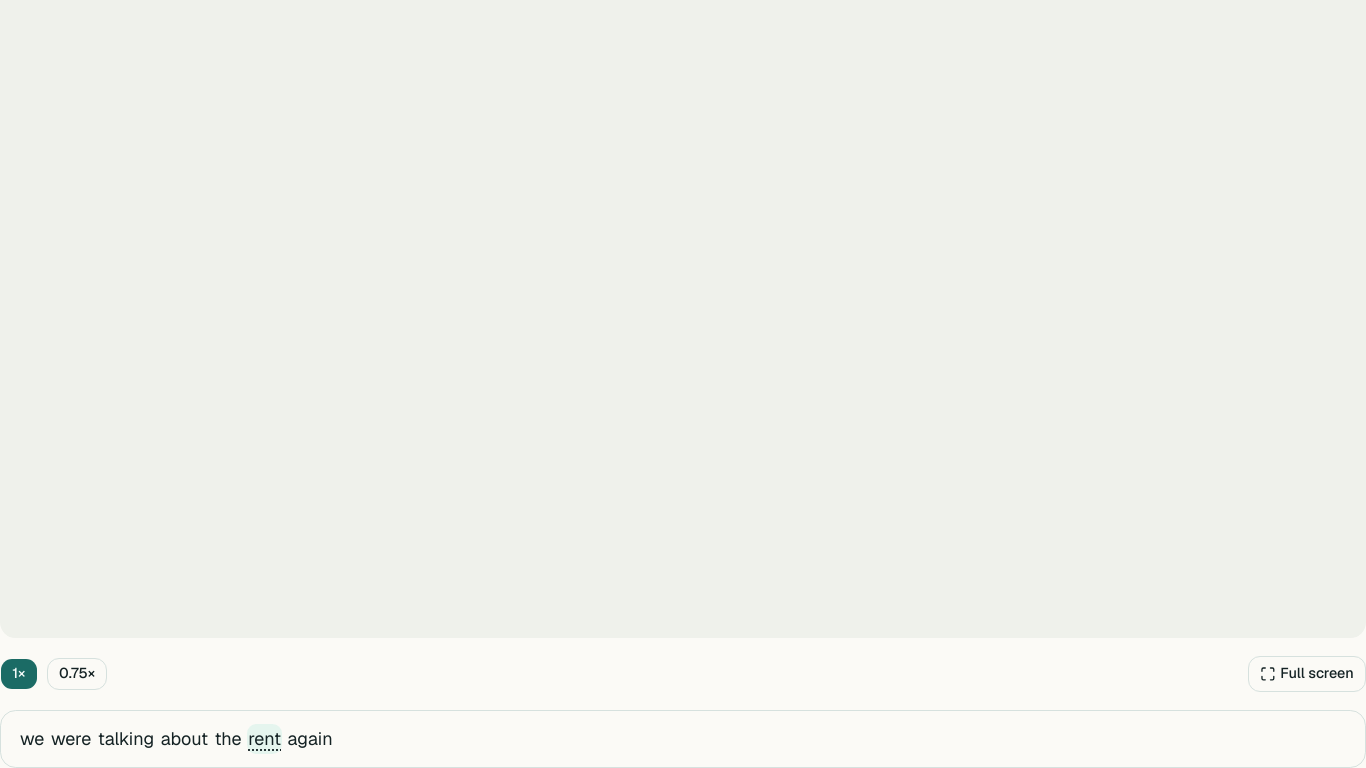
Test case: Focus › says plainly when a video has no timed subtitles to show
(page scrolled)
Click the button with test id "focus-enter".
click(1307, 674)  # box [1248,656,1365,692]
(page scrolled)
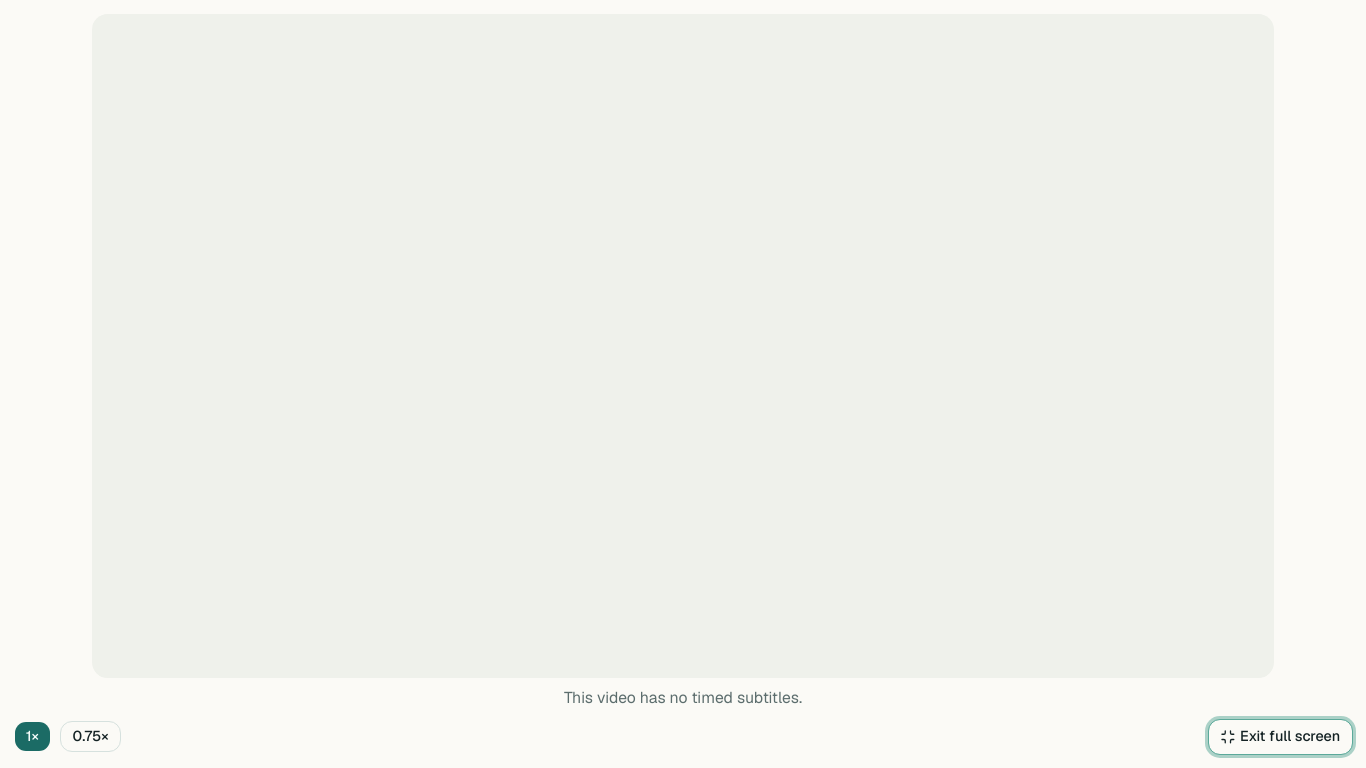
Expected: the text with test id "no-timed" reads "This video has no timed subtitles.", [564,687,802,708]
